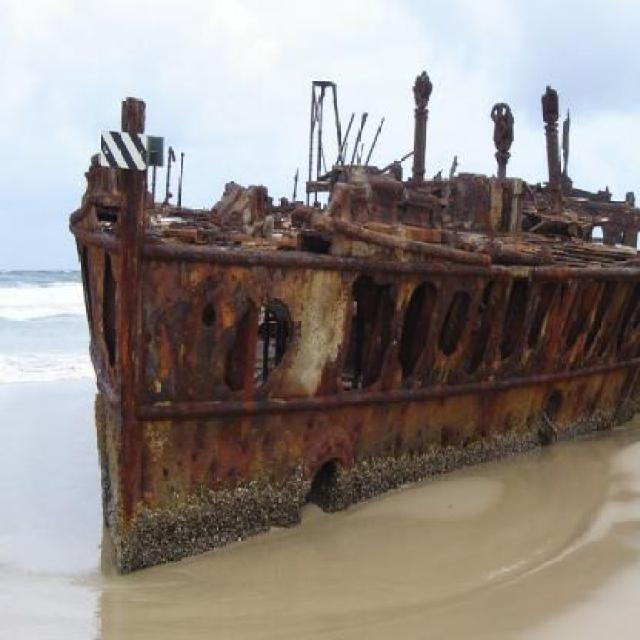corrosion: (71, 66, 640, 569)
